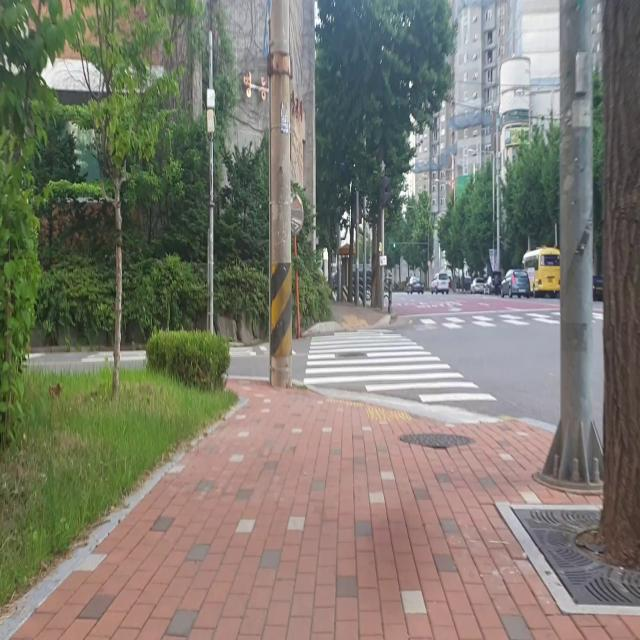횡단보도: (302, 327, 498, 405), (410, 308, 561, 328)
